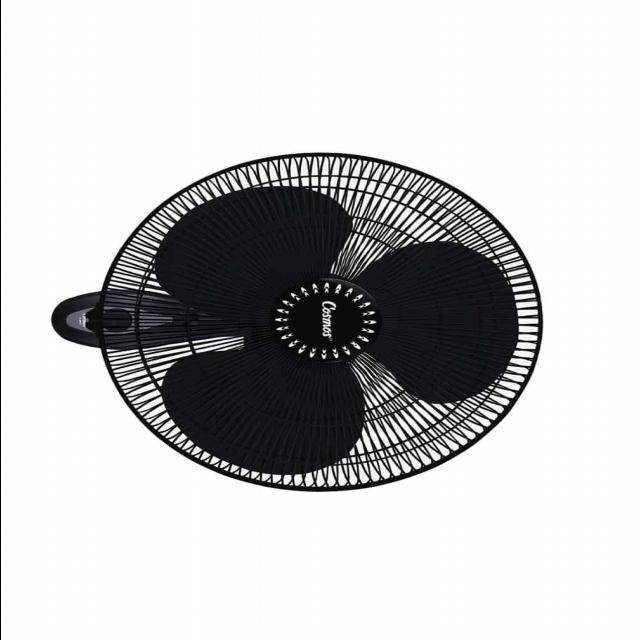fan: (47, 144, 554, 494)
